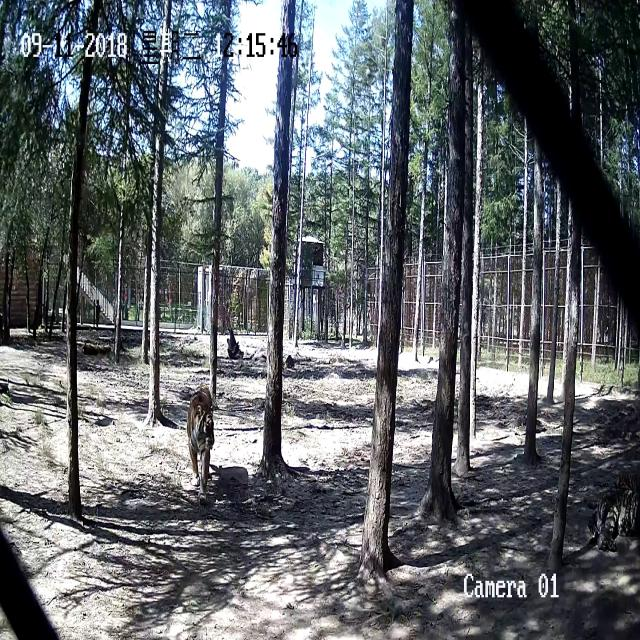Tiger: (180, 366, 221, 512)
